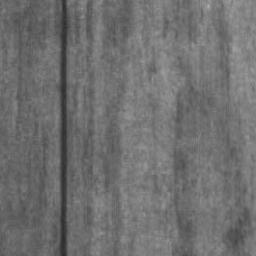Scratches: (58, 0, 70, 256)
